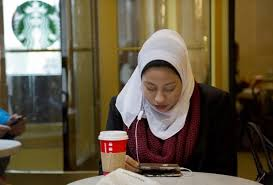middle_eastern_Female: (137, 60, 186, 115)
